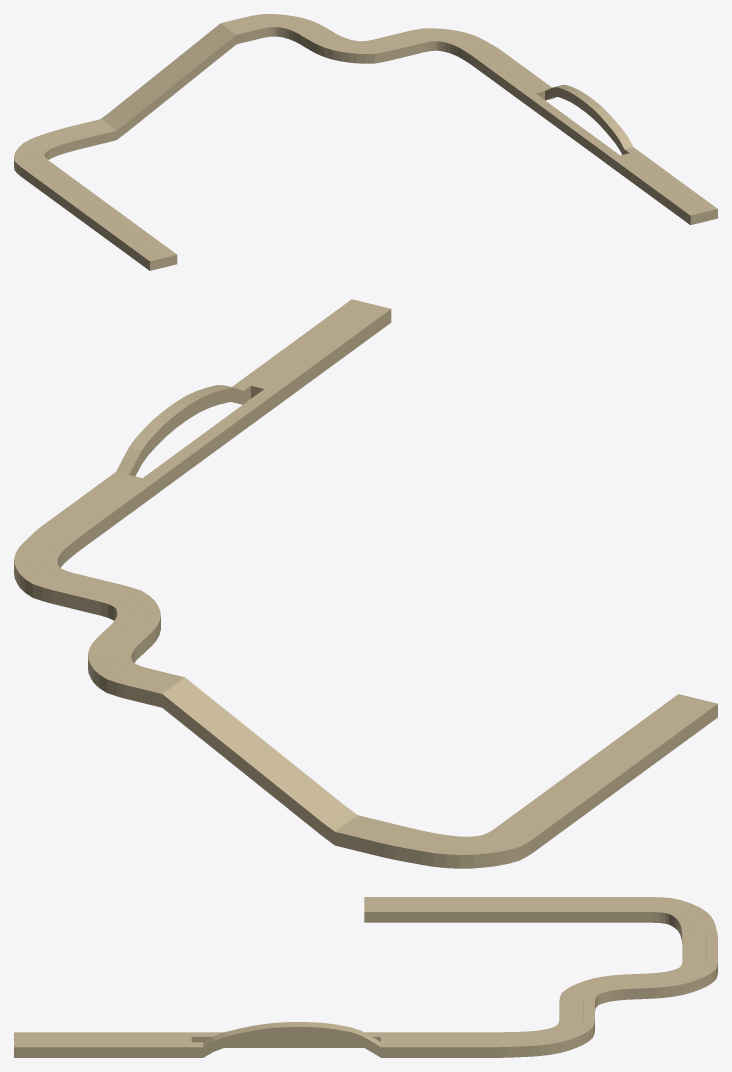
File: Tutorial01_Road.fbx
3 views of the same model, one above another, from view 1: azimuth 30°, elevation 25°; view 2: azimuth 150°, elevation 25°; view 3: azimuth 270°, elevation 25° (orthographic). The views are drawn at different scales.
Visible parts, largest first — view 1: 2way_ver2, up, s_corner, st, corner.001, corner, st_short.001, st_short; view 2: 2way_ver2, up, s_corner, corner, st, corner.001, st_short, st_short.001; view 3: 2way_ver2, st, s_corner, corner.001, corner, st_short, st_short.001.
Part boxes in pixels (x1,y1,x2,y2): 2way_ver2: [488, 61, 677, 195]; up: [92, 21, 244, 142]; s_corner: [229, 14, 406, 63]; st: [31, 167, 136, 241]; corner.001: [391, 28, 515, 76]; corner: [14, 121, 107, 183]; st_short.001: [110, 225, 177, 270]; st_short: [651, 180, 717, 225]; 2way_ver2: [62, 341, 334, 534]; up: [150, 674, 369, 848]; s_corner: [76, 579, 172, 704]; corner: [347, 818, 546, 868]; st: [508, 735, 660, 842]; corner.001: [14, 511, 101, 609]; st_short: [295, 299, 391, 363]; st_short.001: [622, 694, 717, 758]; 2way_ver2: [102, 1022, 465, 1057]; st: [453, 897, 630, 922]; s_corner: [559, 952, 717, 1010]; corner.001: [465, 1010, 594, 1057]; corner: [630, 897, 717, 947]; st_short: [14, 1032, 102, 1057]; st_short.001: [364, 897, 452, 922].
Bounding box in the file's own units: 8984 × 1967 × 11898.
